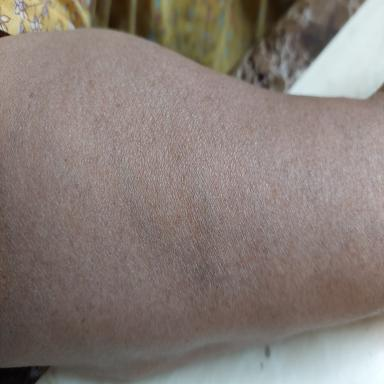normal skin: (0, 29, 384, 367)
